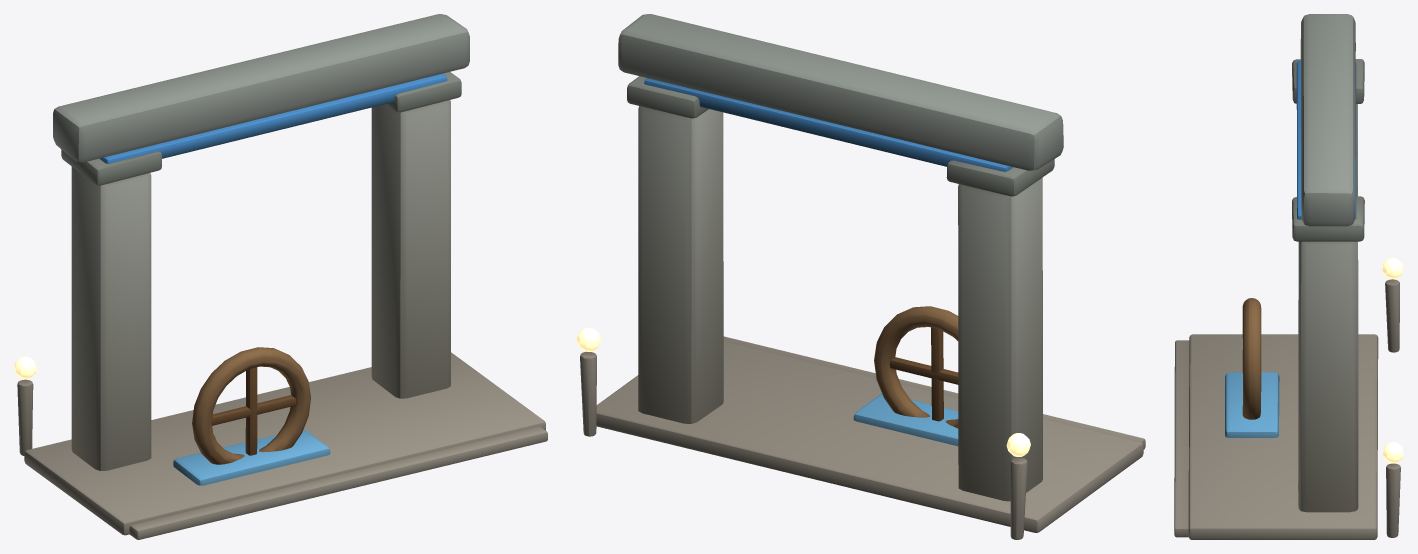
3 renders of one model, left to right at view 1: azimuth 30°, elevation 25°; view 2: azimuth 150°, elevation 25°; view 3: azimuth 270°, elevation 25°, orthographic. The views are drawn at different scales.
Parts seen in each view (by area): view 1: gate_50e4b53d; view 2: gate_50e4b53d; view 3: gate_50e4b53d.
Part boxes in pixels (x1,y1,x2,y2): gate_50e4b53d: (14, 14, 547, 539); gate_50e4b53d: (576, 14, 1145, 539); gate_50e4b53d: (1174, 14, 1403, 539).
Size of the model in its own units: 5.11 by 4.21 by 2.55.
